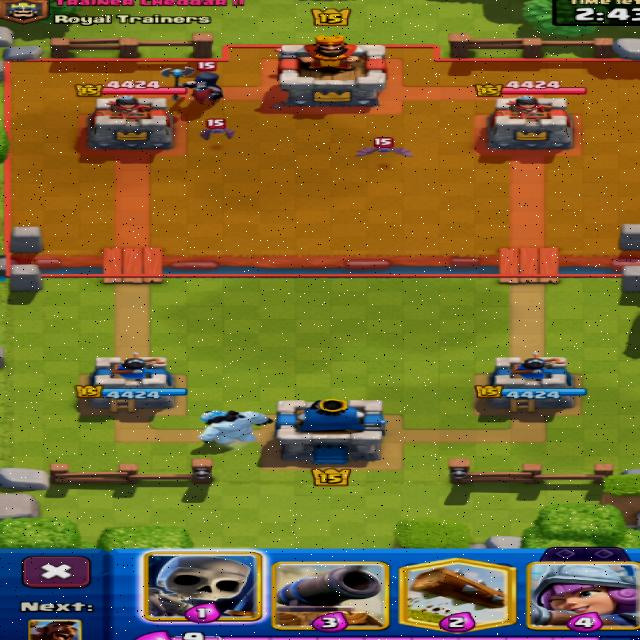Enemy-Bat: (356, 138, 412, 156), (200, 119, 234, 139)
Enemy-KingTower: (277, 35, 386, 106)
Enemy-NightWitch: (161, 67, 221, 106)
Enemy-PrincessTower: (487, 95, 571, 149), (89, 95, 171, 149)
Player-IceGolem: (198, 410, 270, 445)
Player-KingTower: (275, 398, 385, 464)
Player-PrincessTower: (477, 353, 586, 412), (76, 354, 186, 412)
